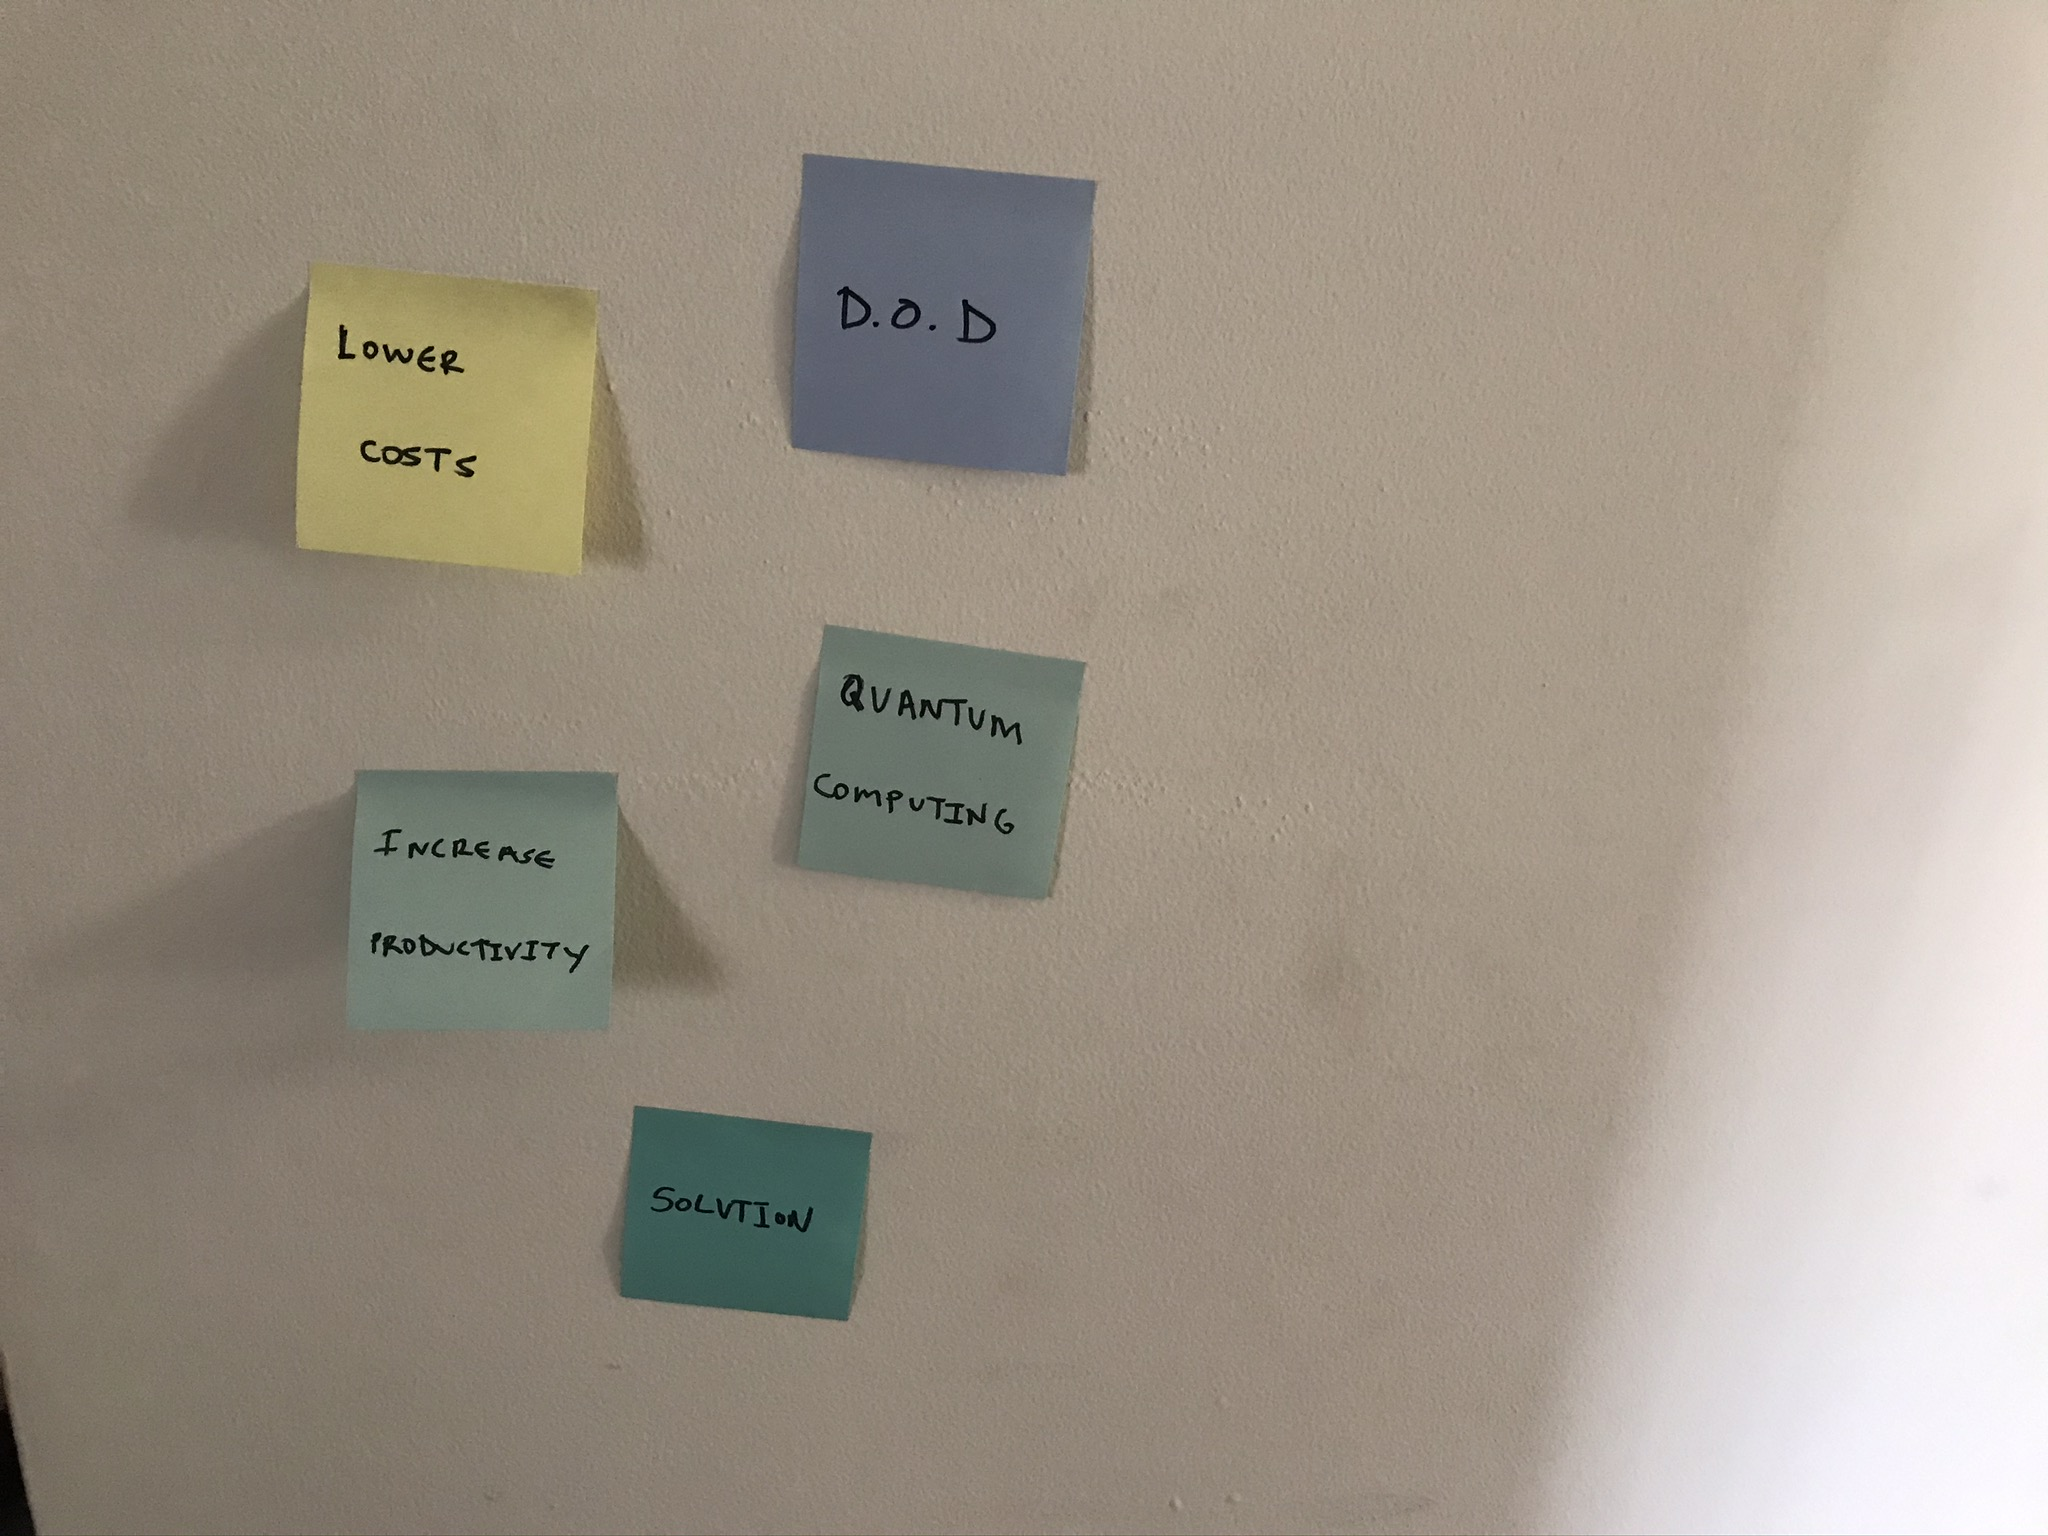sticky: (792, 153, 1098, 481), (297, 261, 598, 578), (793, 624, 1085, 904), (347, 771, 619, 1028), (618, 1107, 874, 1321)
